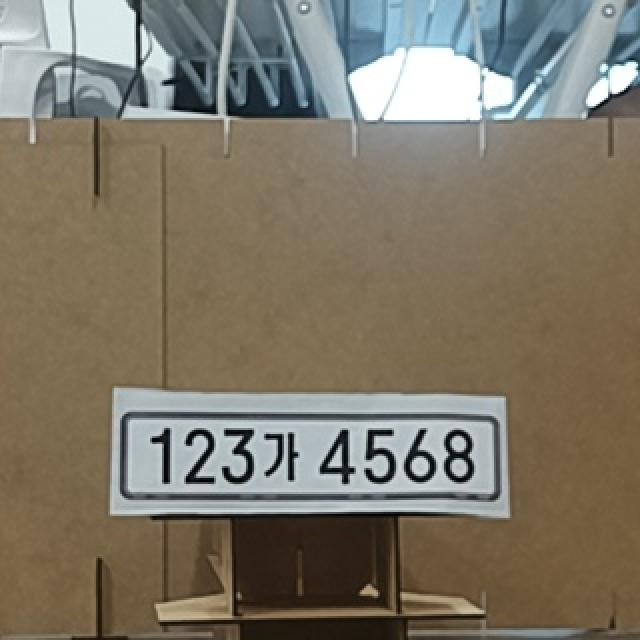normal: (120, 408, 500, 501)
